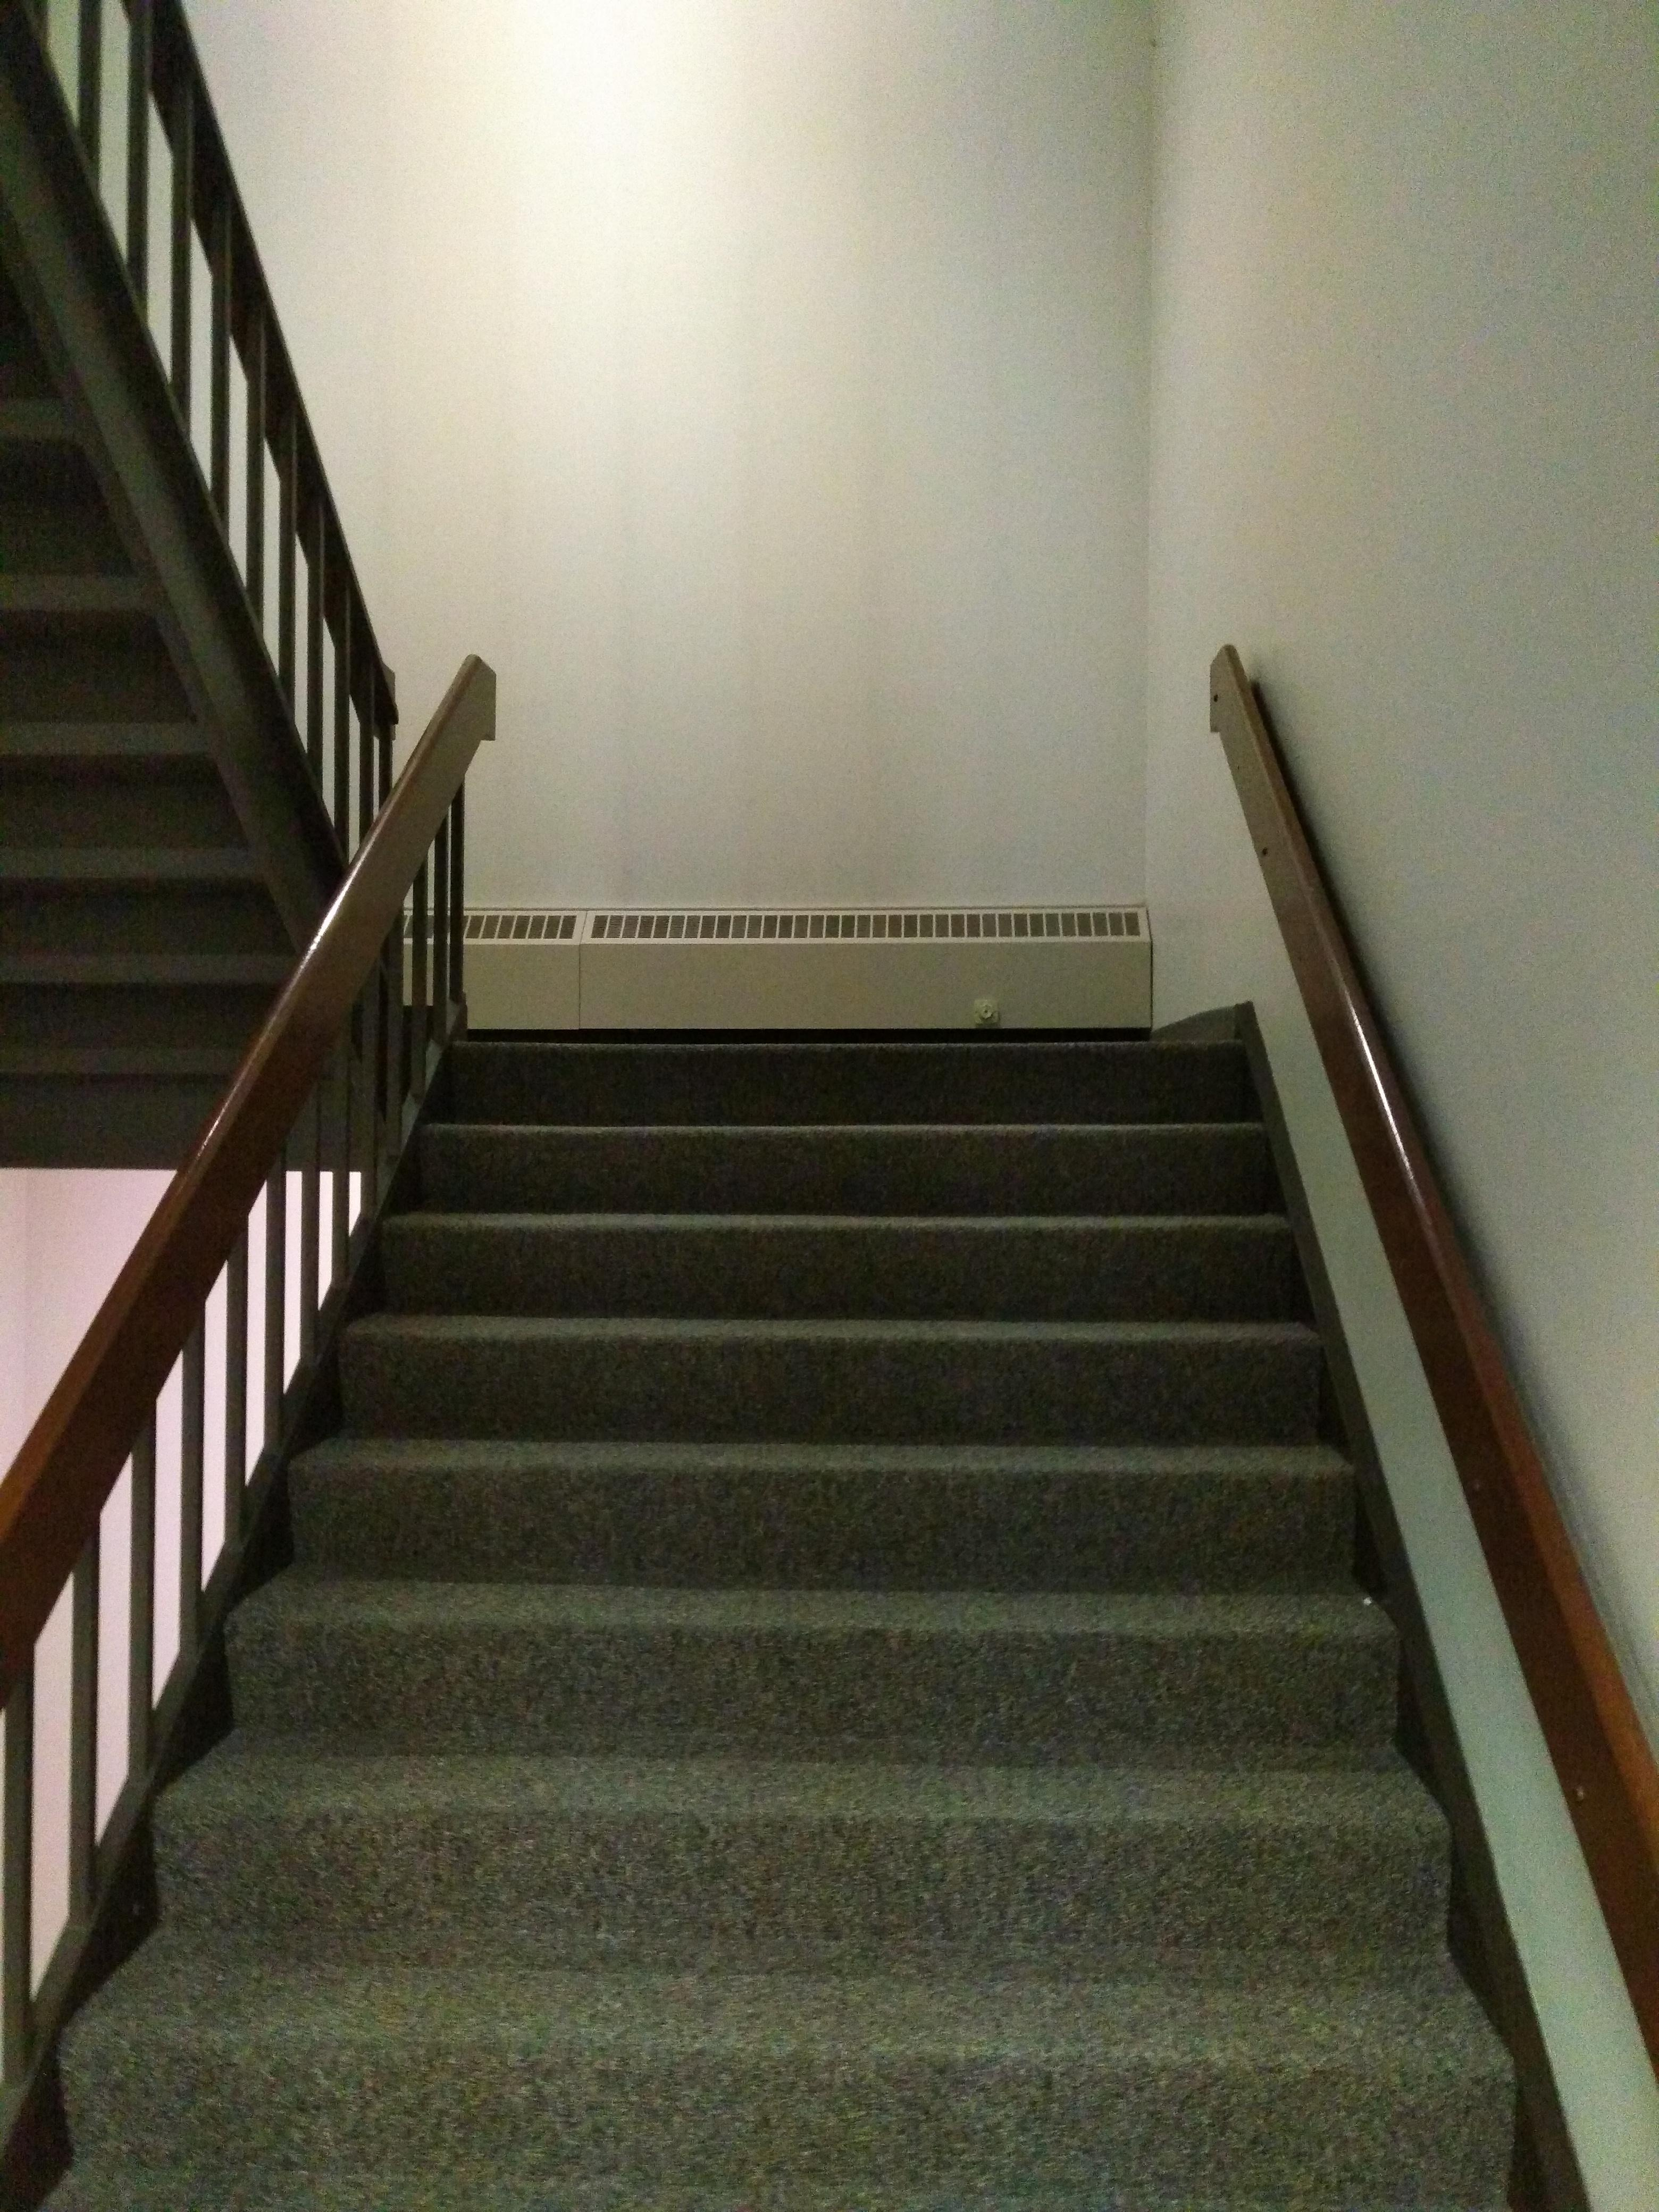stairs_up: (87, 1001, 1528, 2212)
